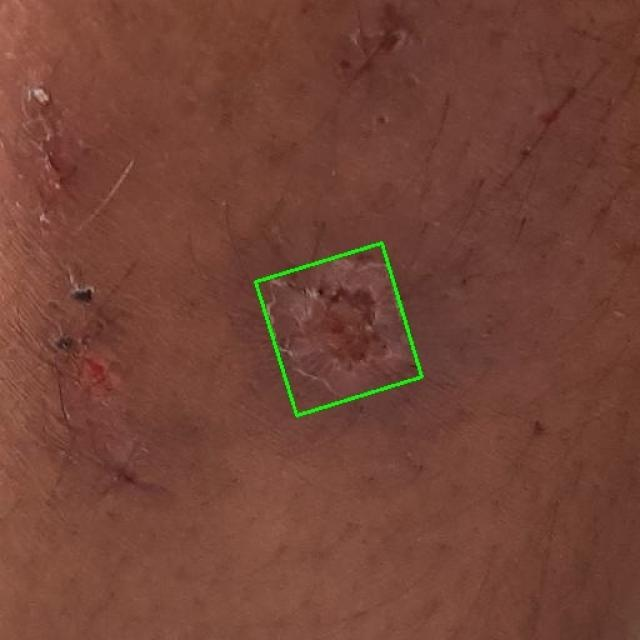Eczema: (256, 243, 422, 415)
